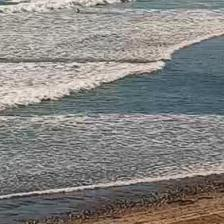surfer: (76, 9, 80, 13)
